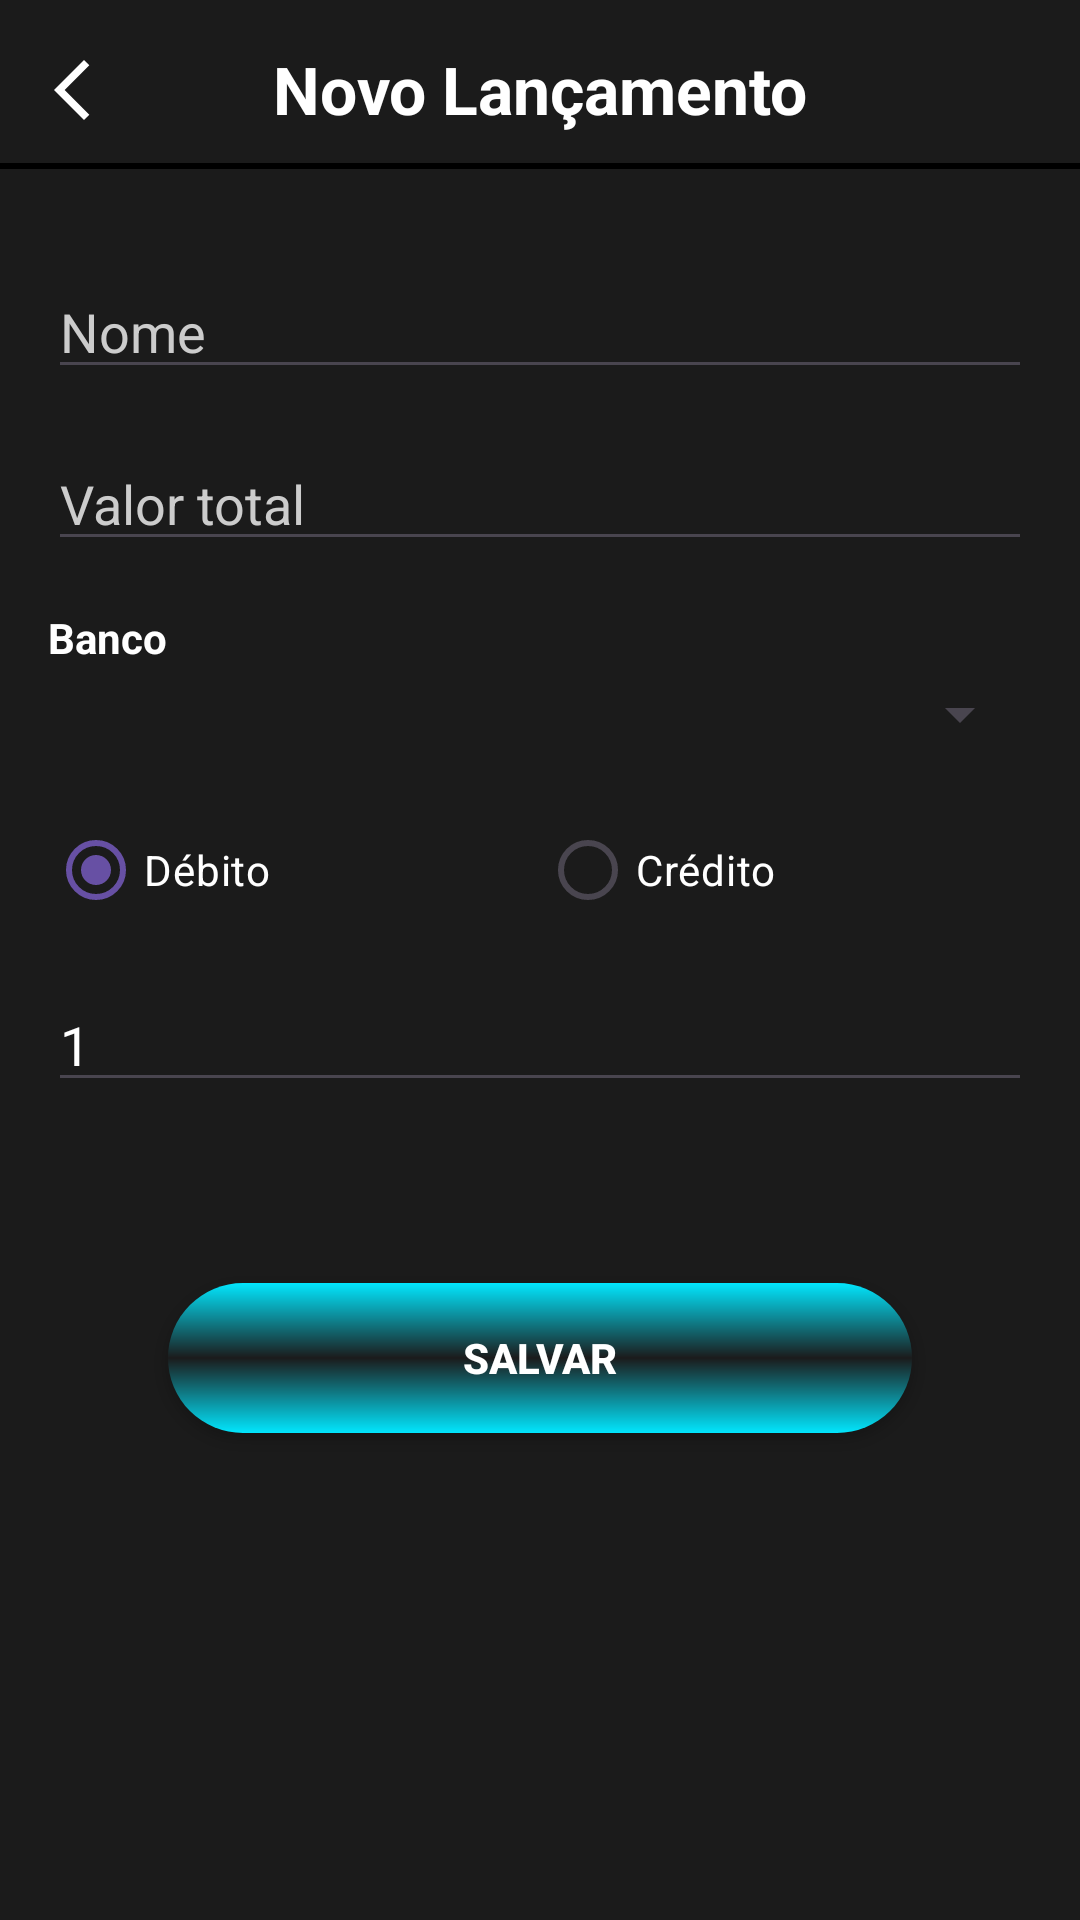

Screen size 1080 x 1920. Icon name, then its center in pixels as (x=x, y=y):
to back: (x=71, y=90)
